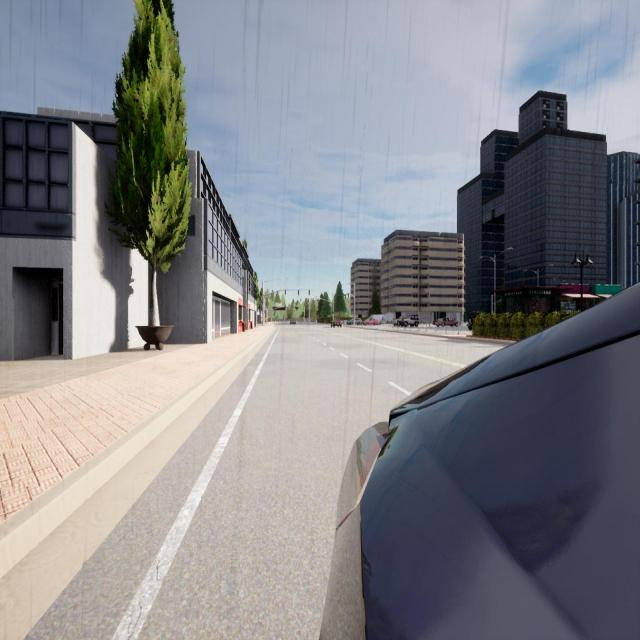Vehicle: (321, 284, 639, 638), (394, 315, 418, 327), (364, 315, 384, 325), (437, 318, 456, 327), (468, 314, 474, 330), (348, 318, 360, 326), (334, 320, 341, 328), (290, 319, 296, 324)
traffic_light: (308, 290, 310, 295), (332, 310, 334, 314), (285, 290, 286, 295), (298, 290, 299, 295), (345, 294, 346, 298), (300, 298, 301, 302), (348, 294, 349, 297), (308, 299, 309, 301), (318, 299, 318, 302)
